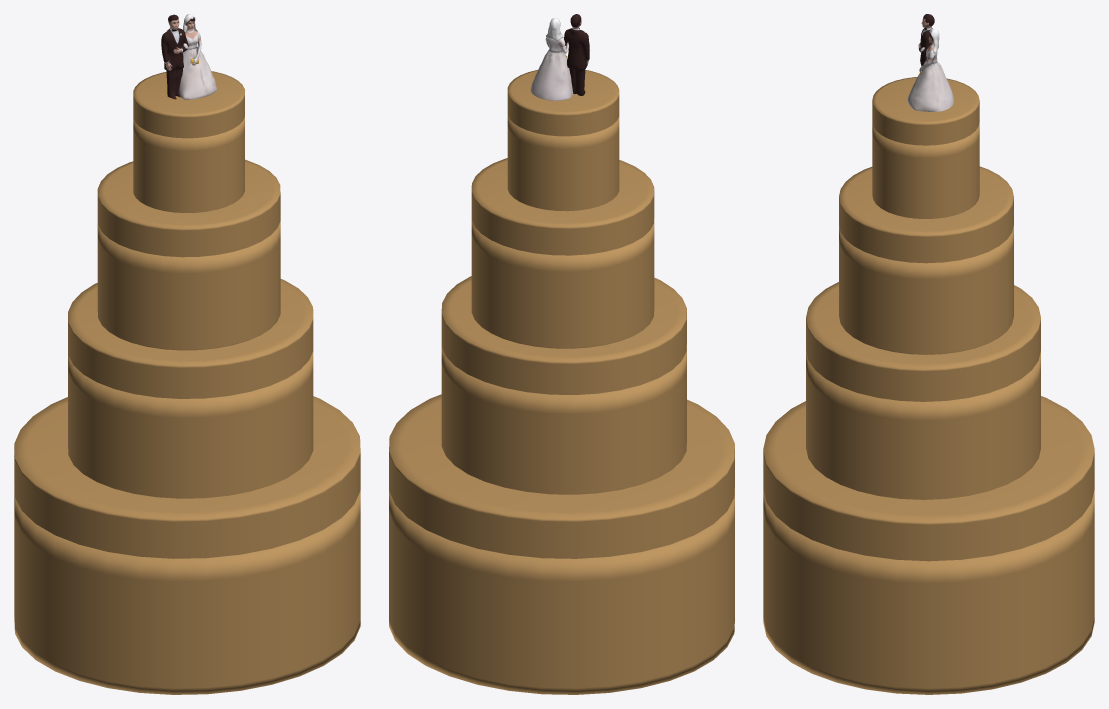
File: 4-tier-caramel-none-bridegroom.glb
3 views of the same model, side by side, from view 1: azimuth 30°, elevation 25°; view 2: azimuth 150°, elevation 25°; view 3: azimuth 270°, elevation 25° (orthographic).
Parts seen in each view (by area): view 1: 3.001, 3, 2, 1, 13501_Cake_Topper_Bride_Groom_v1_L1.001; view 2: 3.001, 3, 2, 1, 13501_Cake_Topper_Bride_Groom_v1_L1.001; view 3: 3.001, 3, 2, 1, 13501_Cake_Topper_Bride_Groom_v1_L1.001.
Part boxes in pixels (bbox=[...]): 3.001: bbox=[14, 396, 360, 694]; 3: bbox=[68, 279, 313, 498]; 2: bbox=[97, 159, 280, 350]; 1: bbox=[133, 71, 244, 212]; 13501_Cake_Topper_Bride_Groom_v1_L1.001: bbox=[161, 14, 216, 99]; 3.001: bbox=[389, 394, 734, 694]; 3: bbox=[441, 276, 686, 494]; 2: bbox=[471, 158, 654, 348]; 1: bbox=[507, 70, 619, 211]; 13501_Cake_Topper_Bride_Groom_v1_L1.001: bbox=[530, 14, 589, 100]; 3.001: bbox=[763, 396, 1094, 694]; 3: bbox=[806, 282, 1040, 499]; 2: bbox=[839, 166, 1013, 354]; 1: bbox=[872, 77, 979, 218]; 13501_Cake_Topper_Bride_Groom_v1_L1.001: bbox=[907, 14, 954, 111].
Bounding box in the file's own units: 4.43 × 8.54 × 4.27.
Materials: 2 (1 with a texture image).
